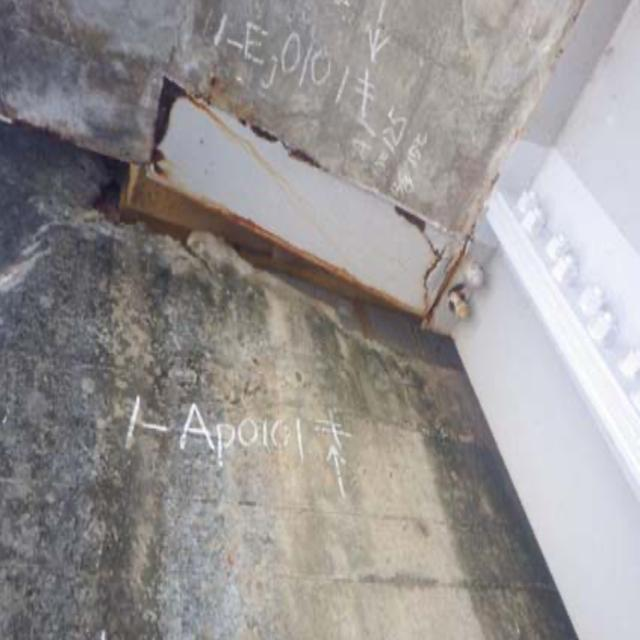corrosion: (117, 80, 453, 336)
